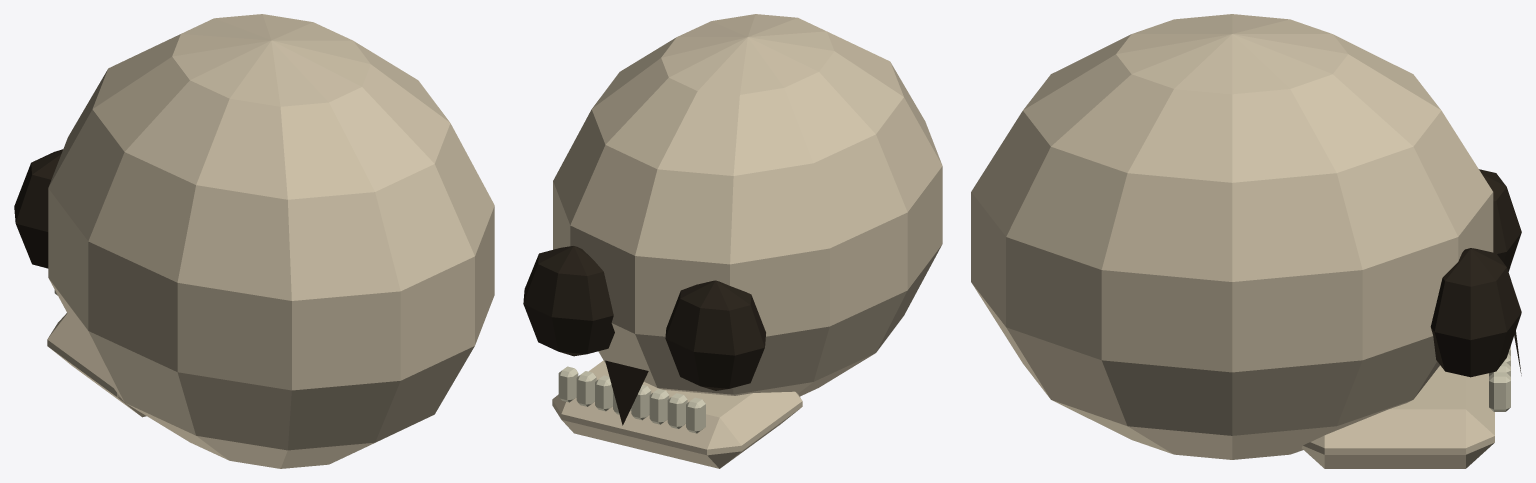
Rendered from skull.glb.
3 views of the same model, side by side, from view 1: azimuth 30°, elevation 25°; view 2: azimuth 150°, elevation 25°; view 3: azimuth 270°, elevation 25° (orthographic). The views are drawn at different scales.
Parts seen in each view (by area): view 1: cranium, left socket, jaw; view 2: cranium, jaw, left socket, right socket, nasal cavity, tooth, tooth.006, tooth.001, tooth.002, tooth.007, tooth.005, tooth.003; view 3: cranium, jaw, right socket, left socket, tooth.007.
Boxes of the visible parts, bbox=[...] form: cranium: bbox=[48, 14, 494, 468]; left socket: bbox=[14, 149, 62, 268]; jaw: bbox=[47, 313, 146, 417]; cranium: bbox=[553, 14, 942, 396]; jaw: bbox=[552, 360, 802, 468]; left socket: bbox=[665, 280, 765, 390]; right socket: bbox=[523, 246, 614, 356]; nasal cavity: bbox=[605, 360, 648, 425]; tooth: bbox=[686, 397, 705, 433]; tooth.006: bbox=[576, 371, 596, 406]; tooth.001: bbox=[667, 393, 687, 428]; tooth.002: bbox=[649, 388, 669, 424]; tooth.007: bbox=[558, 366, 578, 402]; tooth.005: bbox=[595, 375, 612, 411]; tooth.003: bbox=[631, 385, 651, 420]; cranium: bbox=[971, 14, 1493, 459]; jaw: bbox=[1302, 365, 1494, 468]; right socket: bbox=[1430, 248, 1521, 377]; left socket: bbox=[1479, 169, 1521, 271]; tooth.007: bbox=[1489, 372, 1510, 411].
Size of the model in its own units: 0.1755 by 0.184 by 0.2262.
